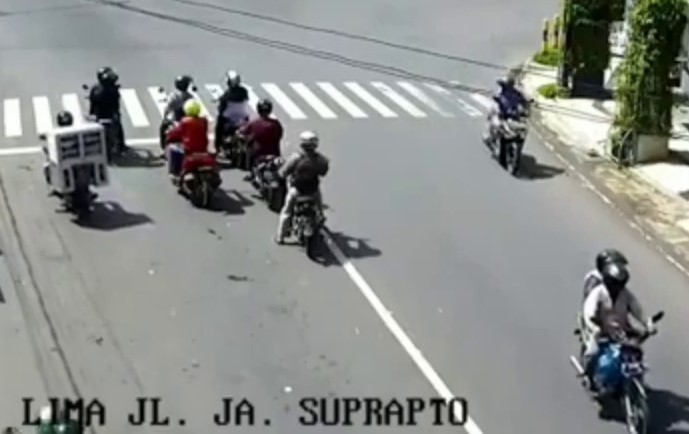motorbike: (579, 249, 655, 434), (42, 110, 110, 220), (283, 130, 331, 261), (164, 96, 219, 210), (483, 78, 531, 177), (90, 63, 128, 164), (249, 97, 283, 208), (218, 69, 252, 165), (161, 74, 191, 157)
